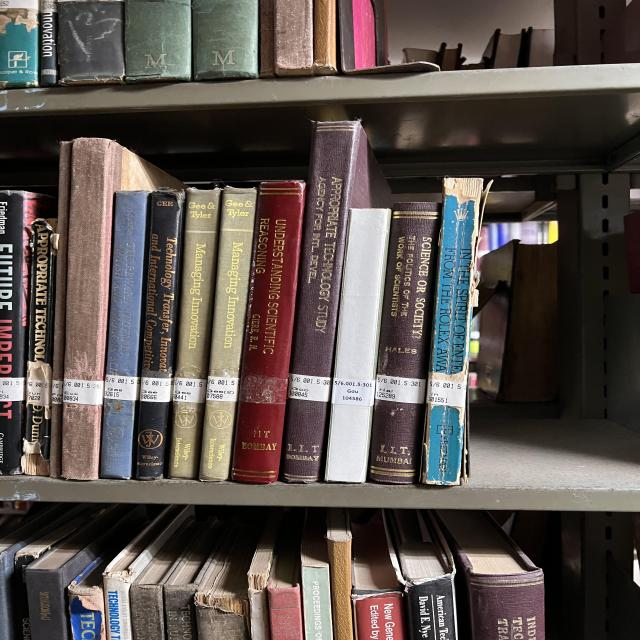Book: (58, 138, 187, 480), (282, 121, 390, 482), (232, 181, 305, 482), (368, 202, 440, 484), (422, 178, 483, 485), (325, 209, 390, 482), (198, 188, 257, 481), (167, 189, 222, 479), (0, 190, 55, 475), (135, 190, 185, 480), (100, 191, 150, 479), (435, 510, 545, 640), (388, 510, 457, 640), (22, 219, 57, 475), (58, 0, 125, 85), (125, 0, 192, 82), (192, 0, 258, 81), (275, 0, 313, 75), (313, 0, 338, 75), (352, 0, 377, 69), (40, 0, 57, 86), (337, 0, 355, 71), (260, 0, 275, 78)
Label: (50, 142, 72, 478), (375, 375, 427, 404), (240, 375, 288, 404), (288, 374, 332, 402), (332, 378, 375, 406), (27, 361, 52, 408), (427, 379, 467, 408), (63, 379, 103, 405), (103, 375, 140, 401), (172, 378, 207, 404), (207, 376, 238, 402), (140, 378, 172, 402), (0, 378, 25, 401)
